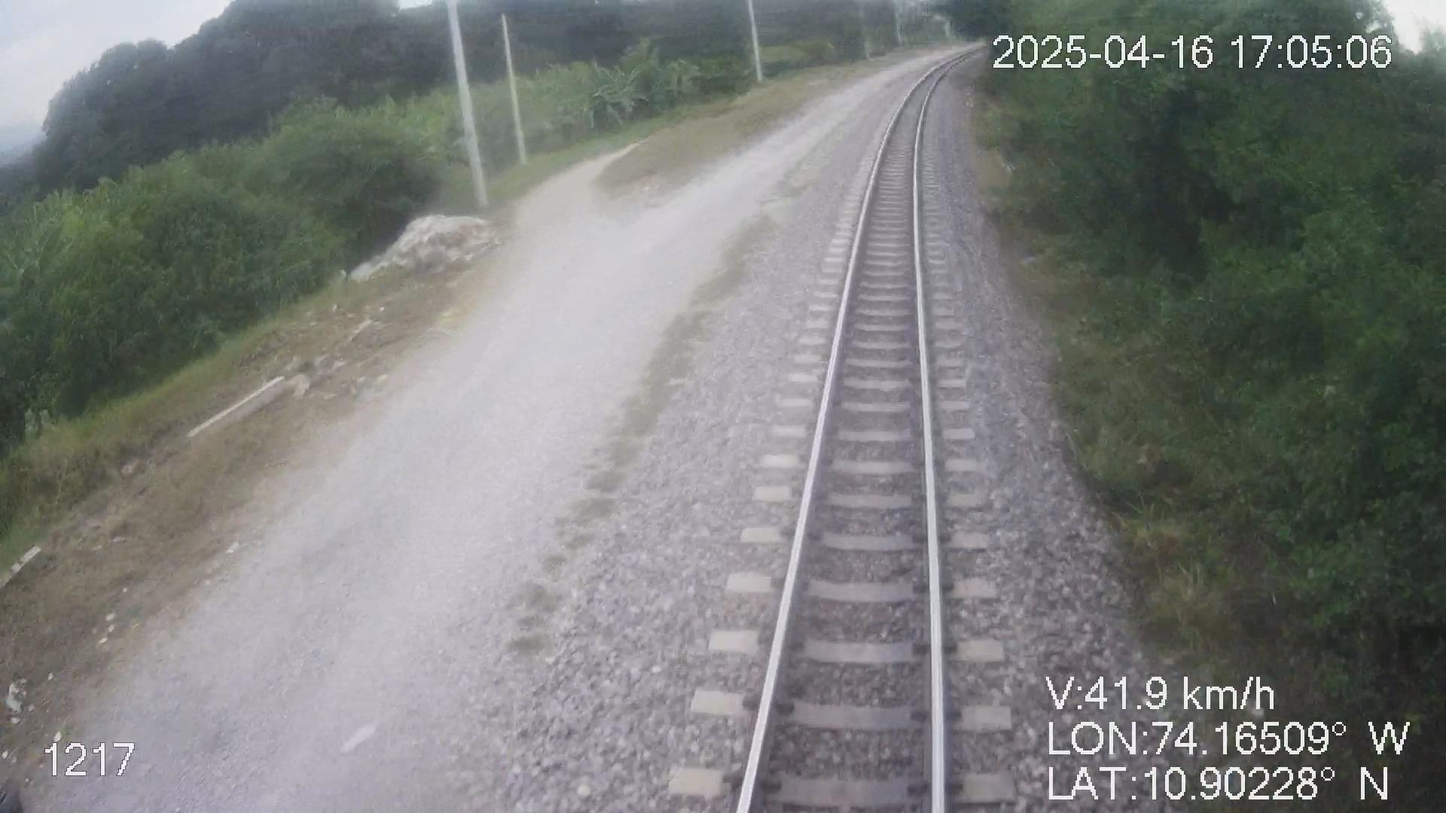Pasto: (0, 0, 880, 692), (938, 0, 1445, 812)
